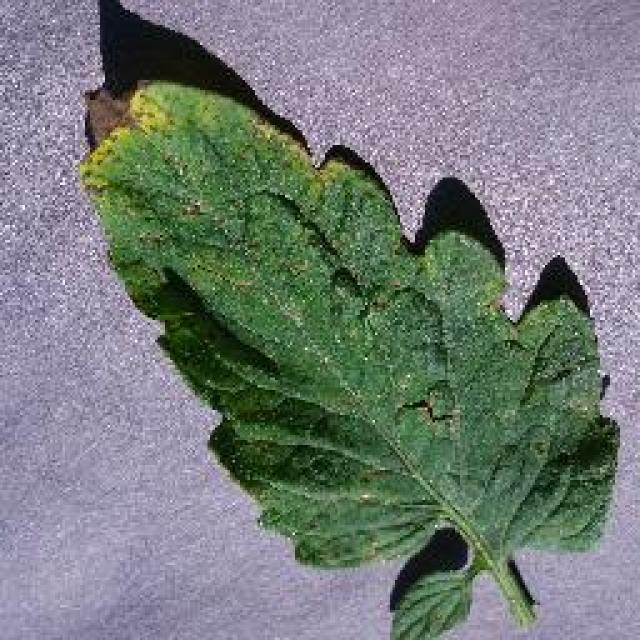Tomato___Septoria_leaf_spot: (80, 82, 618, 638)
